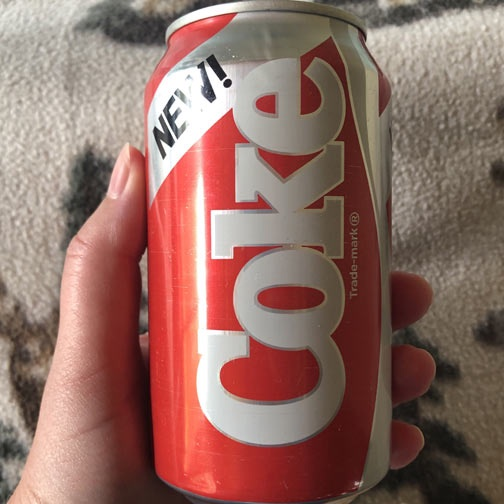can: (131, 2, 398, 500)
